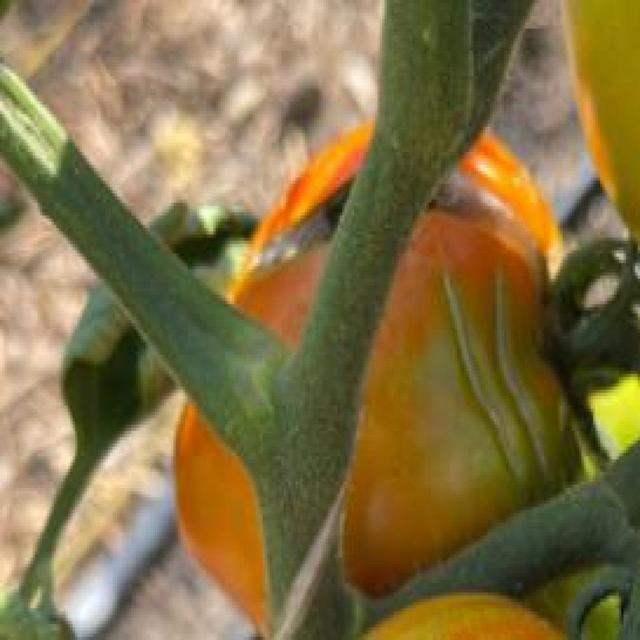Cracking Fruit: (58, 168, 353, 257)
